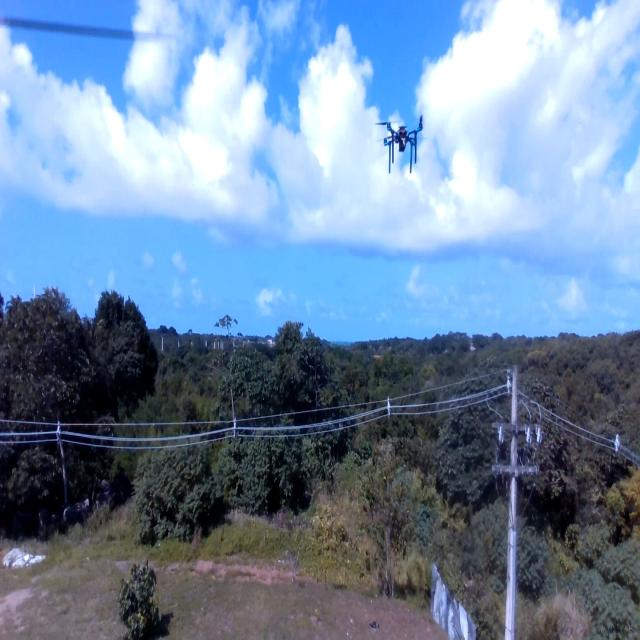-uav-: (371, 108, 427, 178)
